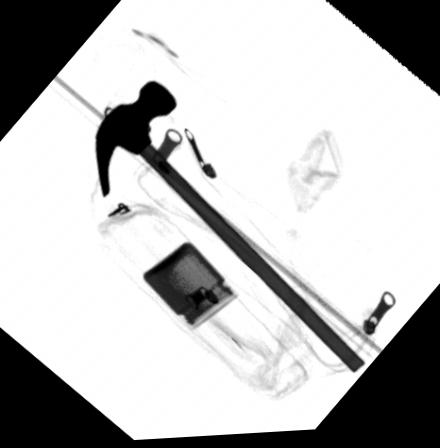Hammer: (93, 80, 366, 376)
